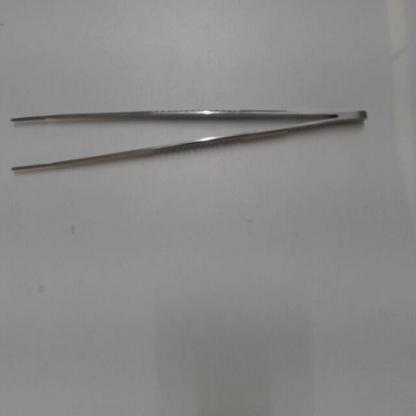DeBakey Dissector: (2, 89, 387, 184)
